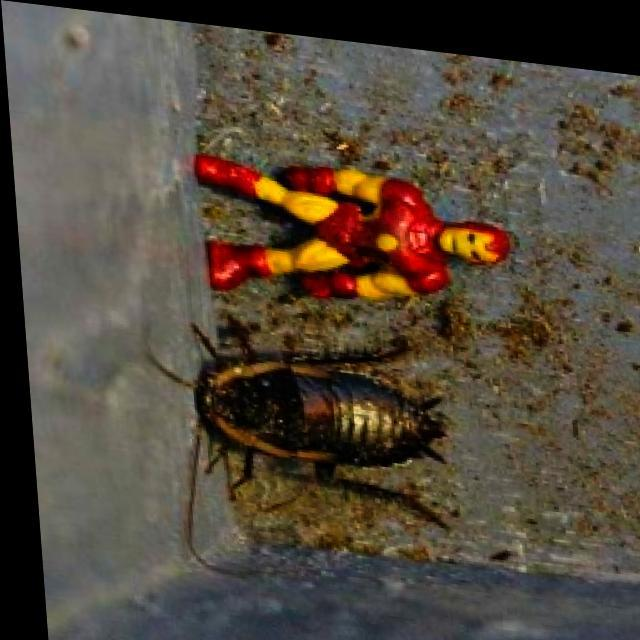cockroach: (181, 301, 477, 515)
